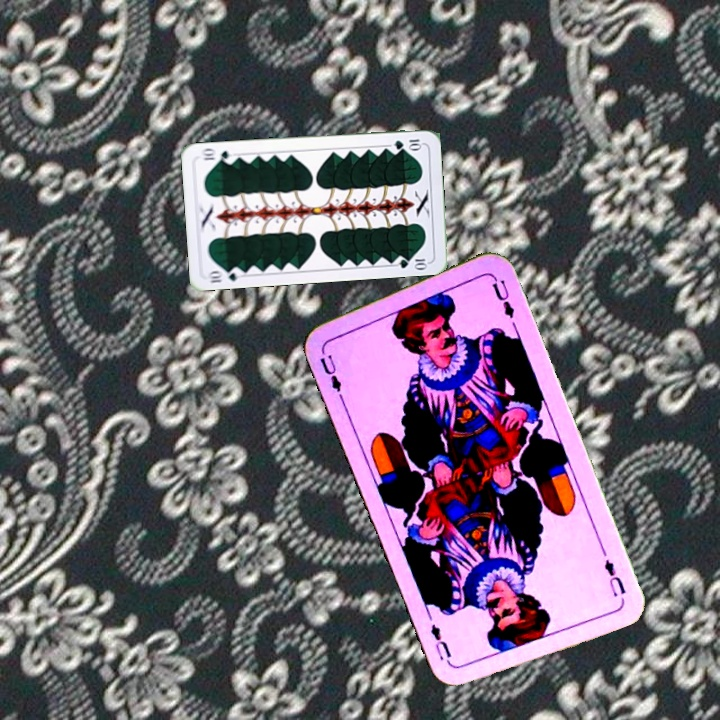EU: (316, 350, 347, 400), (600, 555, 629, 600)
G10: (204, 264, 245, 286), (390, 135, 424, 152)
